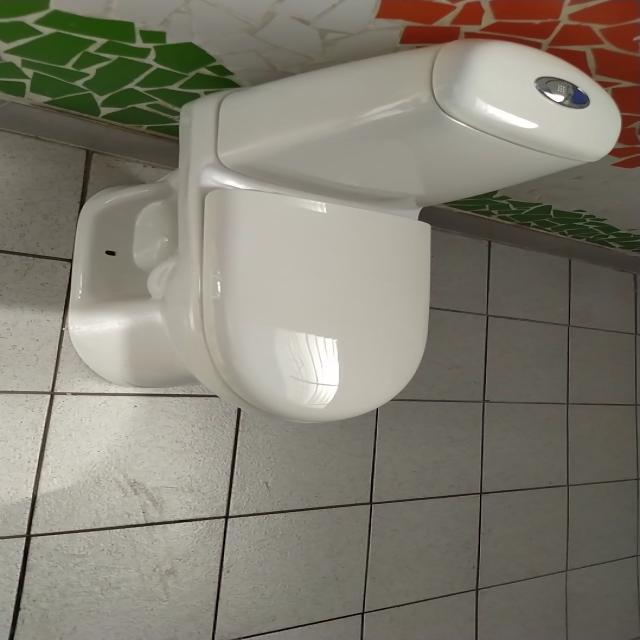toilet: (66, 37, 622, 424)
